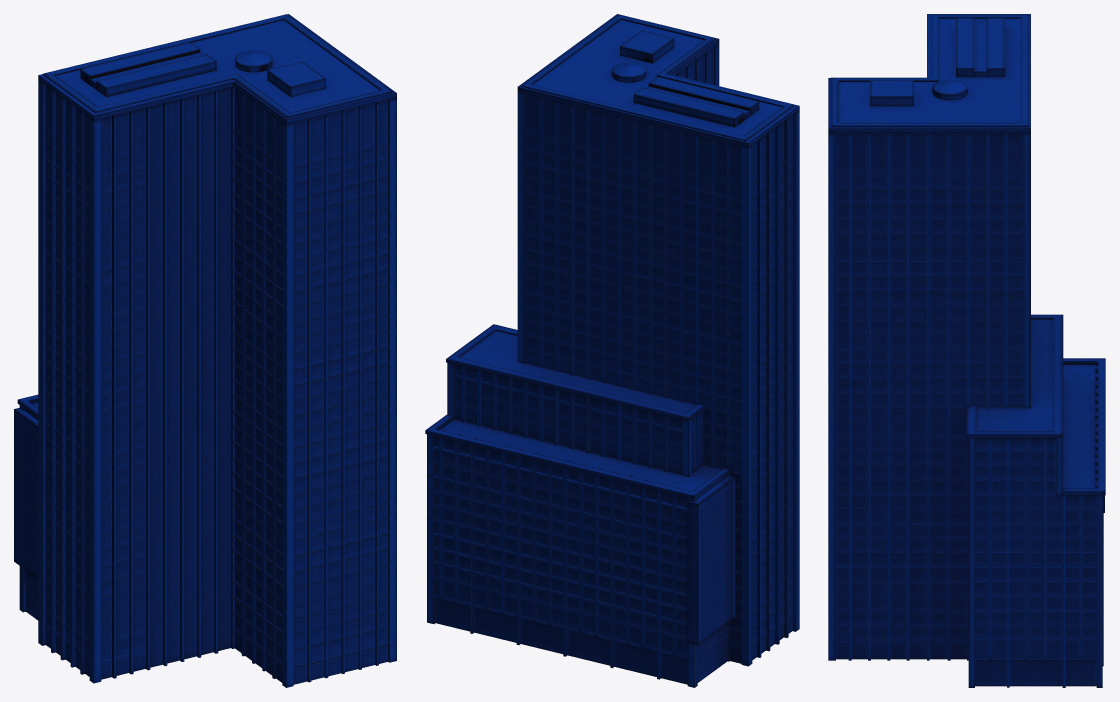
The picture shows the model from 3 angles, left to right: view 1: azimuth 30°, elevation 25°; view 2: azimuth 150°, elevation 25°; view 3: azimuth 270°, elevation 25°; orthographic projection. The views are drawn at different scales.
Parts seen in each view (by area): view 1: 1350_hi_poly; view 2: 1350_hi_poly; view 3: 1350_hi_poly.
Boxes of the visible parts, box(x1,y1,x2,y2) form: 1350_hi_poly: box(14, 14, 396, 687); 1350_hi_poly: box(425, 14, 799, 687); 1350_hi_poly: box(828, 14, 1105, 687).
Size of the model in its own units: 13.09 by 23.29 by 10.78.
Materials: 1 (1 with a texture image).
